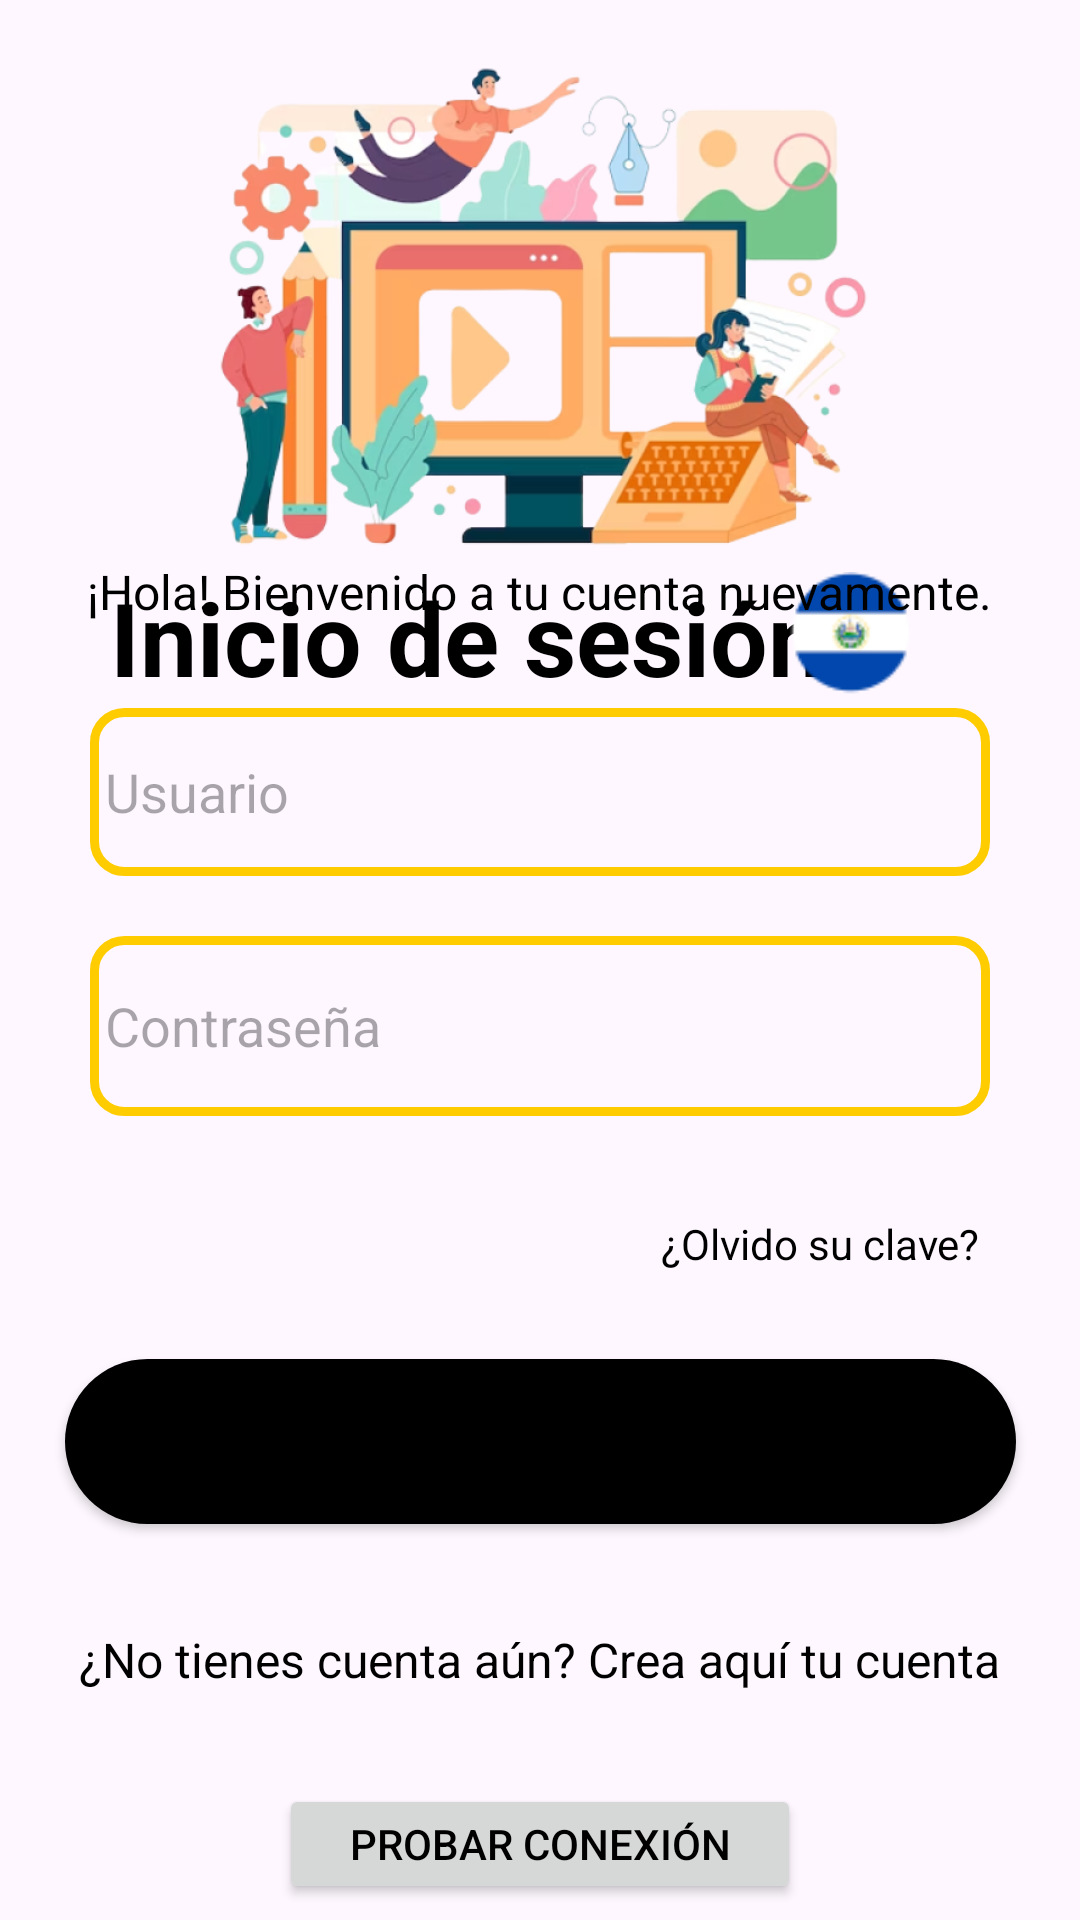

Named icons in this screenshot (1080*1920) and their bounding boxes, {"left": x1, "top": y1, "right": x2, "bottom": y2}:
elsalvador: {"left": 795, "top": 572, "right": 910, "bottom": 693}
